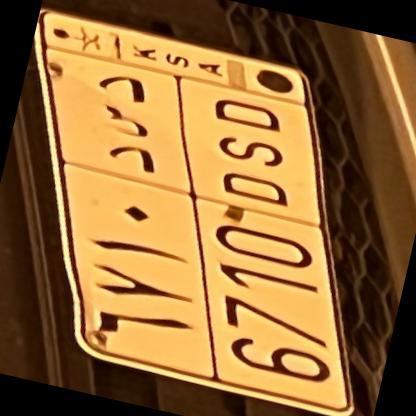english: (155, 86, 385, 396)
